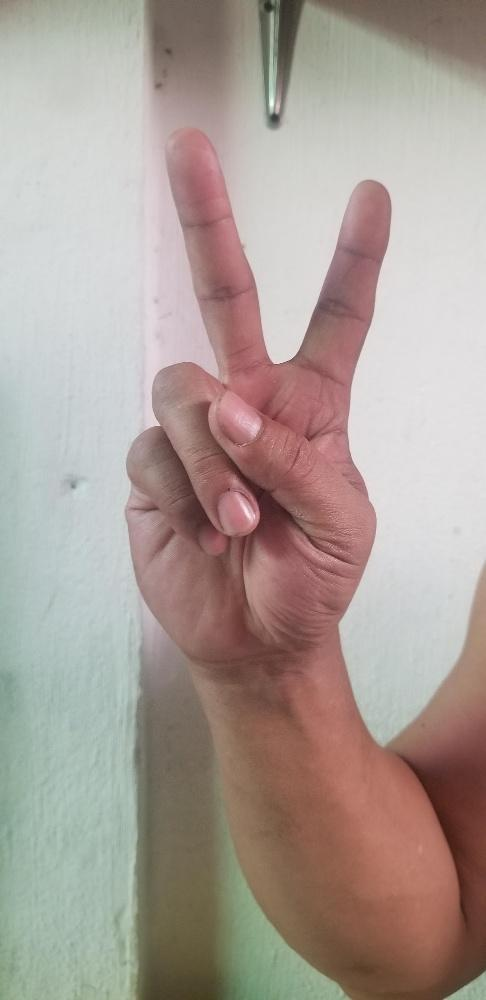v: (122, 128, 393, 658)
